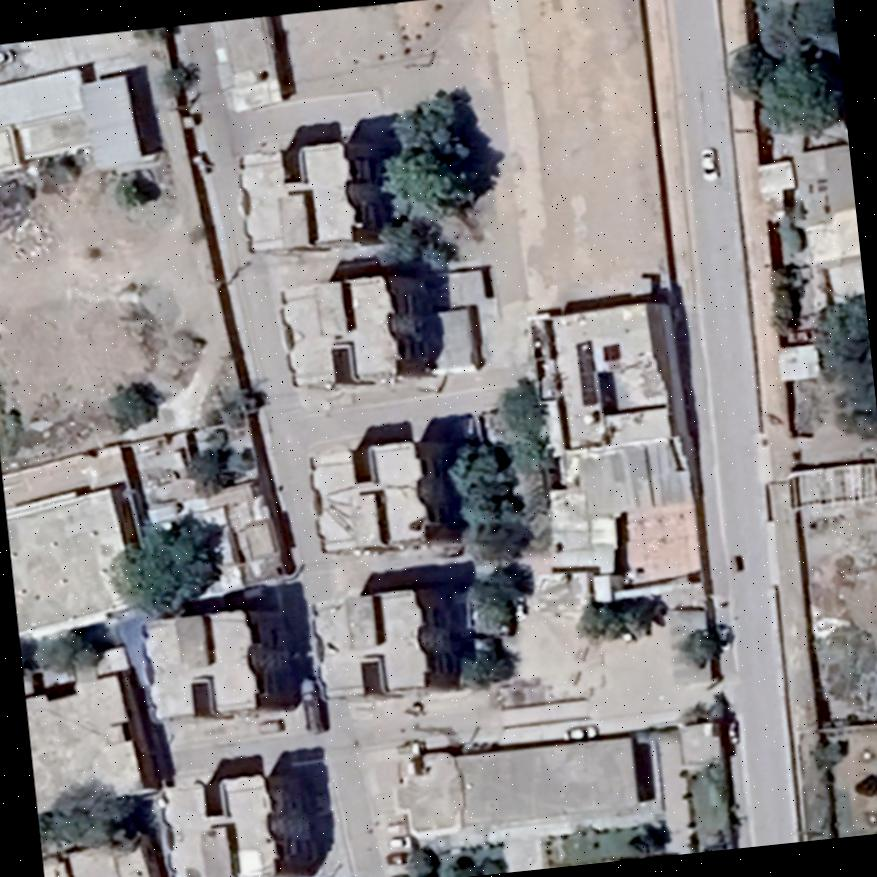Solarpanel: (574, 338, 599, 408)
